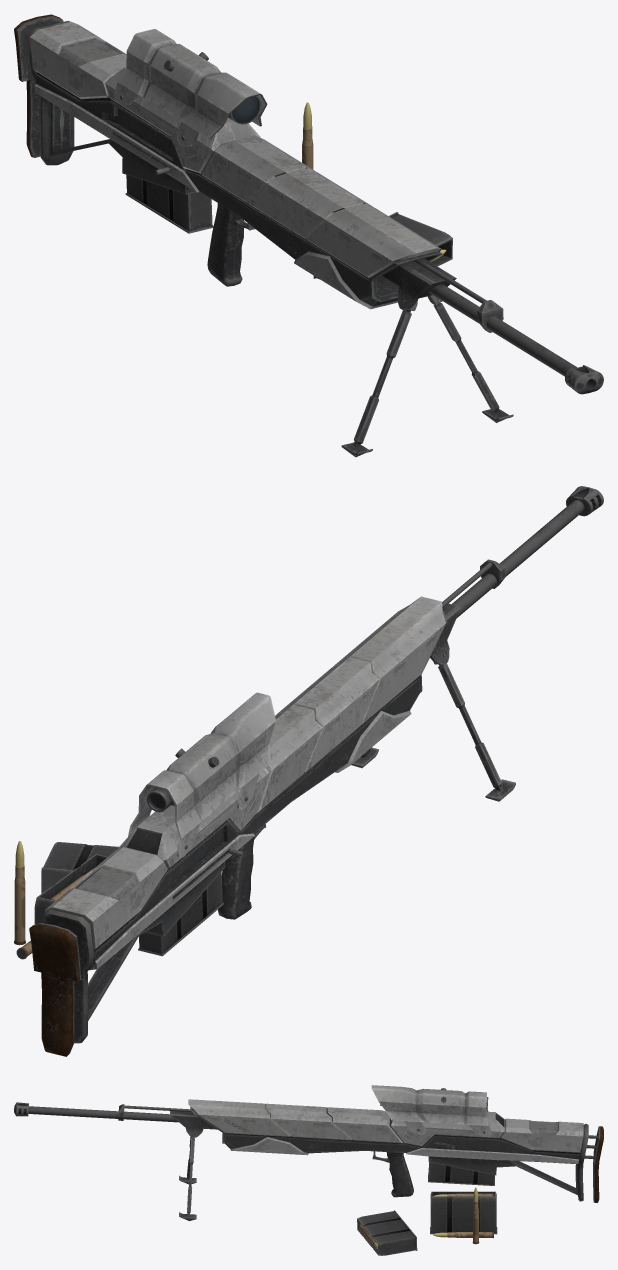
The model's file is bitcoin-schema-sniper.glb.
The picture shows the model from 3 angles, top to bottom: view 1: azimuth 30°, elevation 25°; view 2: azimuth 150°, elevation 25°; view 3: azimuth 270°, elevation 25°; orthographic projection. The views are drawn at different scales.
Visible parts, largest first — view 1: Cube.000_Material.001_0; view 2: Cube.000_Material.001_0; view 3: Cube.000_Material.001_0.
Boxes of the visible parts, left/top/right/bottom form: Cube.000_Material.001_0: left=14, top=14, right=603, bottom=457; Cube.000_Material.001_0: left=14, top=486, right=603, bottom=1056; Cube.000_Material.001_0: left=14, top=1085, right=603, bottom=1255.
Bounding box in the file's own units: 0.5624 × 0.4194 × 1.92.
1 material, 1 textured.
